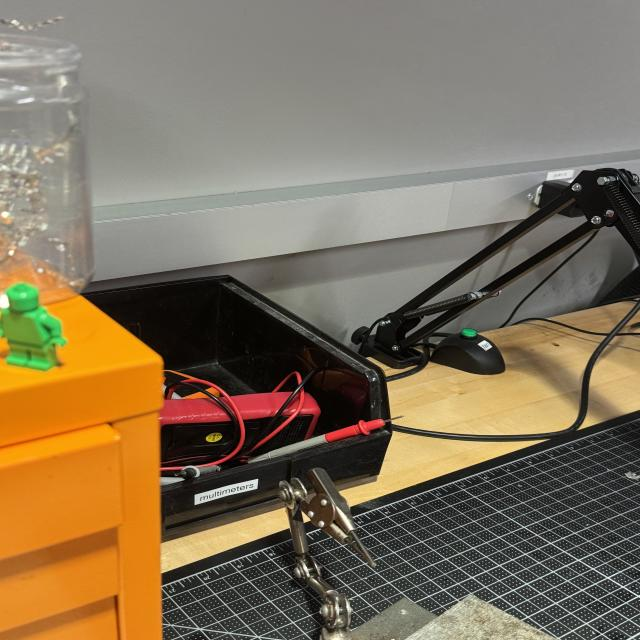Green Mini Figure: (0, 282, 67, 371)
